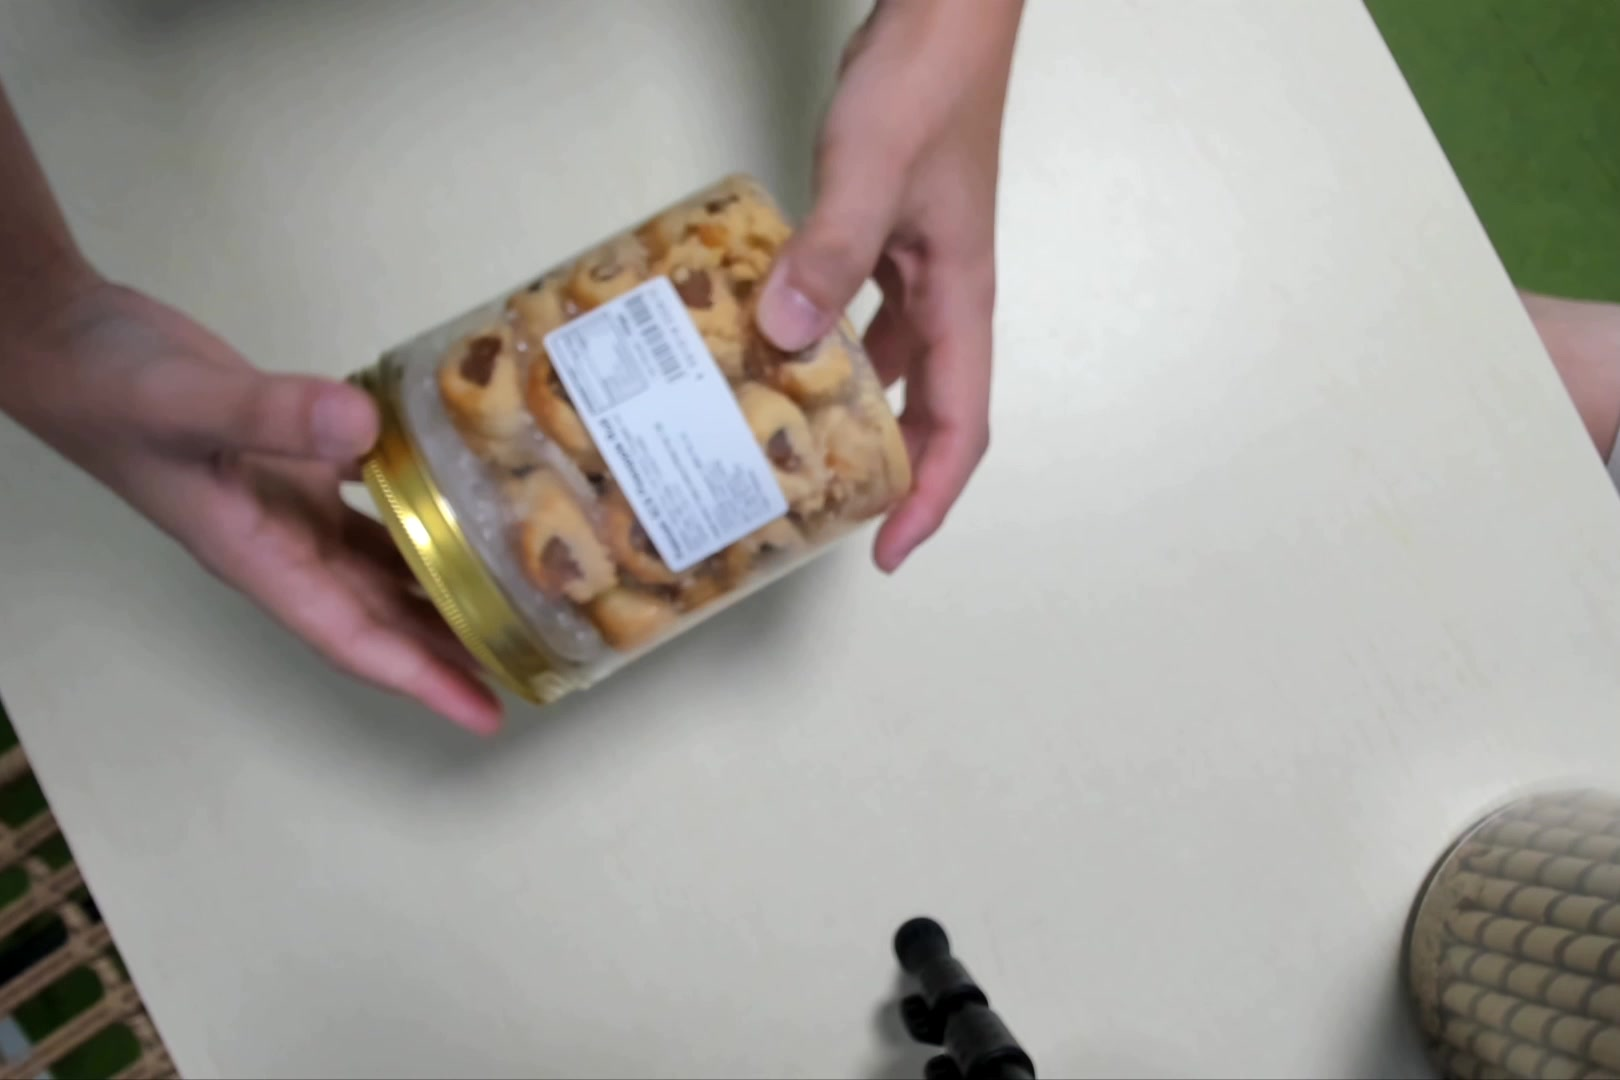BiscuitsCrackersCookies_300-399g_NonHalal_NonHealthy: (356, 159, 914, 728)
